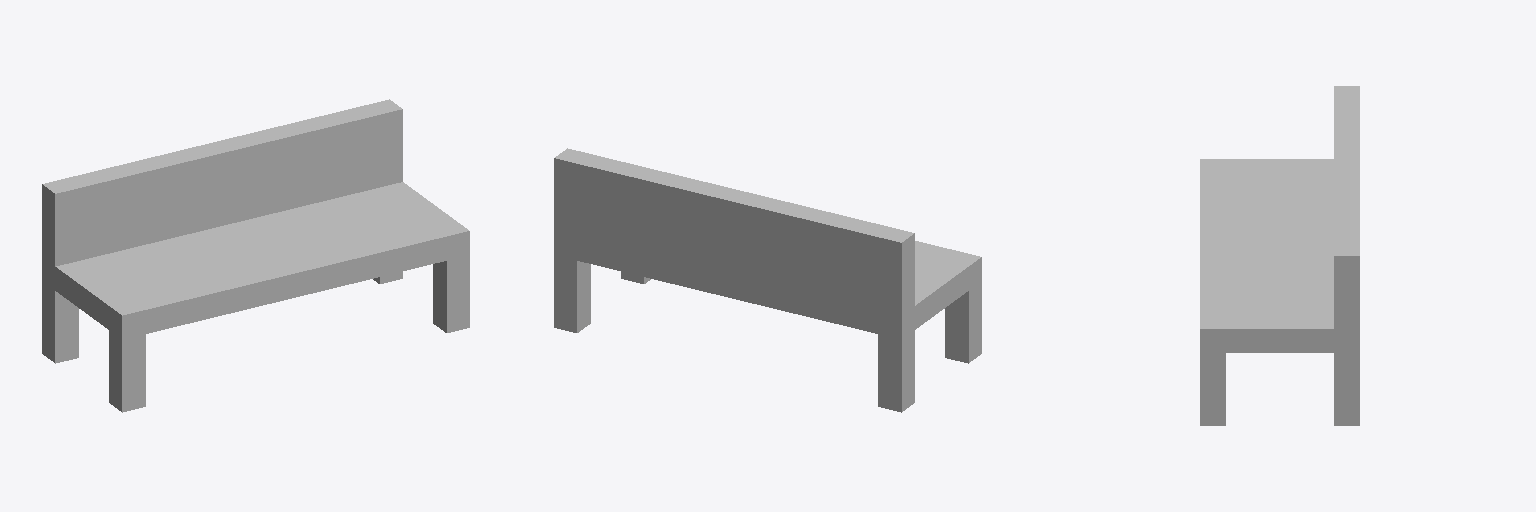
Rendered from bench.obj.
3 views of the same model, side by side, from view 1: azimuth 30°, elevation 25°; view 2: azimuth 150°, elevation 25°; view 3: azimuth 270°, elevation 25° (orthographic).
Size of the model in its own units: 15 by 7 by 6.